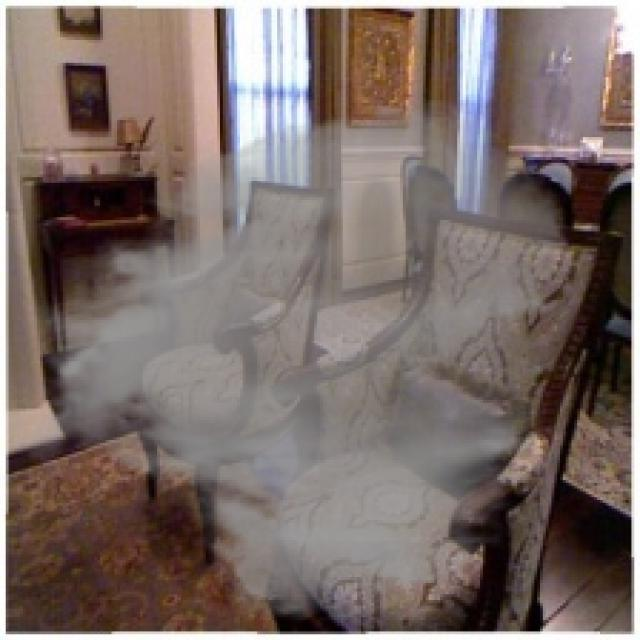Smoke: (17, 94, 577, 626)
